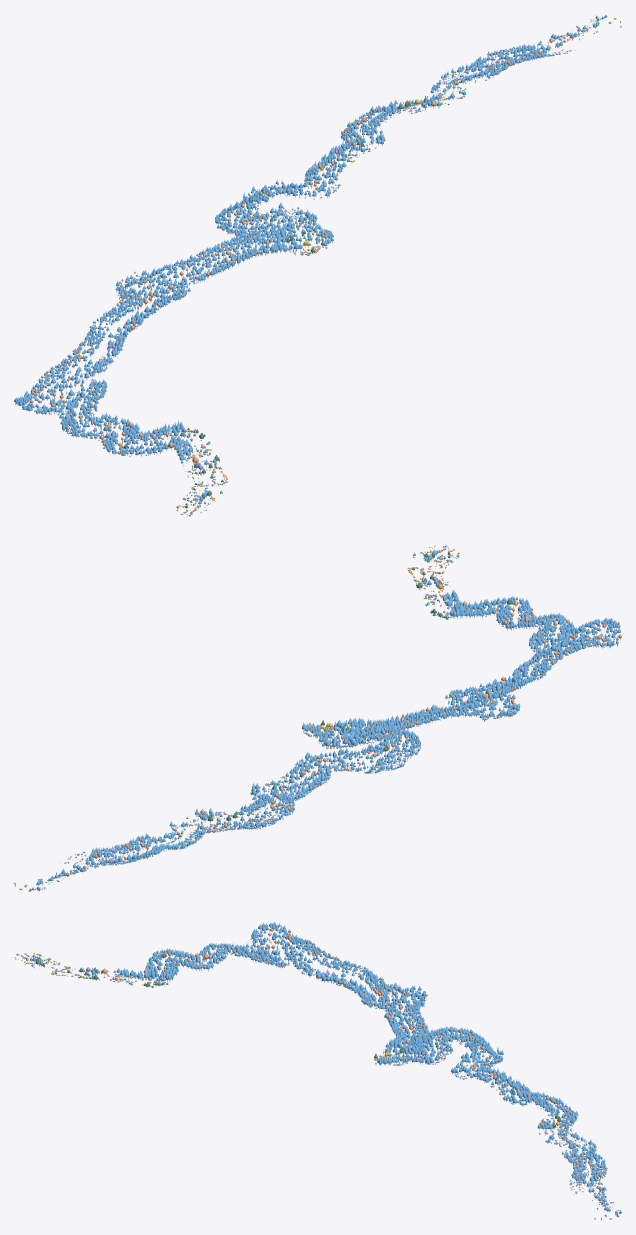
Rendered from arbres.glb.
The picture shows the model from 3 angles, top to bottom: view 1: azimuth 30°, elevation 25°; view 2: azimuth 210°, elevation 25°; view 3: azimuth 270°, elevation 25°; orthographic projection. The views are drawn at different scales.
Parts seen in each view (by area): view 1: arbres_pin_alep, arbres_chene_vert, arbres_cypres; view 2: arbres_pin_alep, arbres_chene_vert, arbres_cypres; view 3: arbres_pin_alep, arbres_chene_vert, arbres_cypres.
Boxes of the visible parts, left/top/right/bottom form: arbres_pin_alep: left=15, top=14, right=621, bottom=516; arbres_chene_vert: left=14, top=18, right=616, bottom=514; arbres_cypres: left=123, top=15, right=620, bottom=513; arbres_pin_alep: left=14, top=545, right=620, bottom=891; arbres_chene_vert: left=19, top=548, right=621, bottom=890; arbres_cypres: left=15, top=548, right=512, bottom=891; arbres_pin_alep: left=15, top=922, right=620, bottom=1219; arbres_chene_vert: left=18, top=928, right=614, bottom=1219; arbres_cypres: left=21, top=953, right=621, bottom=1220.
Size of the model in its own units: 2051 by 208 by 1504.
